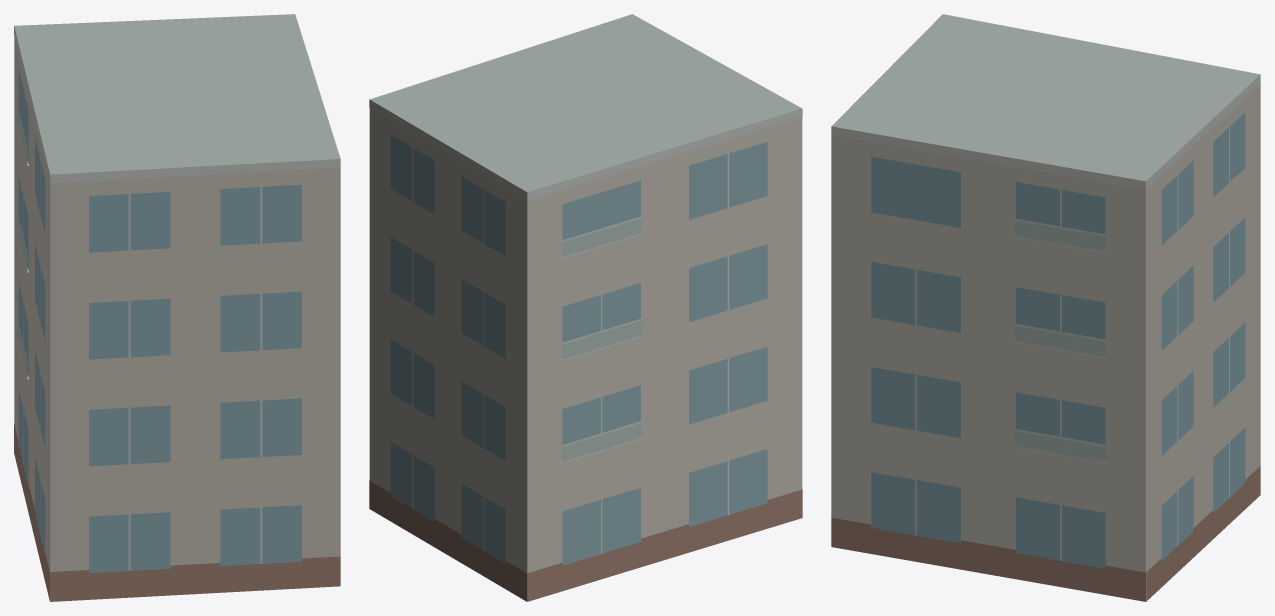
Rendered from survey-upis-32534329.glb.
3 renders of one model, left to right at view 1: azimuth 30°, elevation 25°; view 2: azimuth 150°, elevation 25°; view 3: azimuth 270°, elevation 25°, orthographic. The views are drawn at different scales.
Parts seen in each view (by area): view 1: survey-upis-32534329.tmp; view 2: survey-upis-32534329.tmp; view 3: survey-upis-32534329.tmp.
Part boxes in pixels (box(x1,y1,x2,y2)): survey-upis-32534329.tmp: box(14, 14, 340, 601); survey-upis-32534329.tmp: box(369, 14, 802, 601); survey-upis-32534329.tmp: box(831, 14, 1260, 601).
Size of the model in its own units: 10.16 by 11.9 by 11.02.
